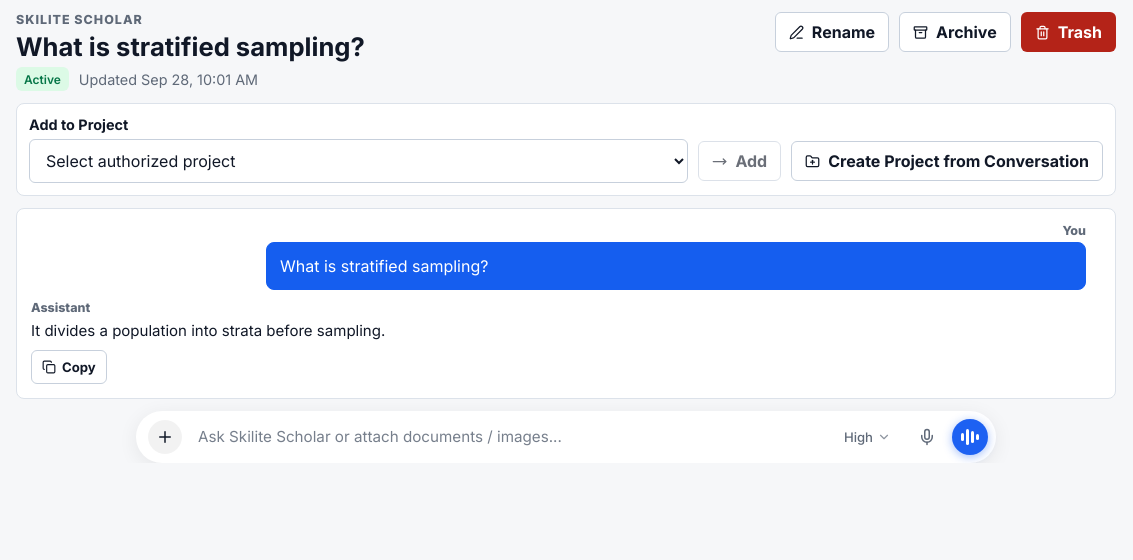
ConversationWorkspacePage › renames, archives, restores, and trashes a conversation
Check: the heading "What is stratified sampling?" is shown, box [16,33,365,61]
Click the button "Rename". click: (832, 32)
box: [775,12,889,52]
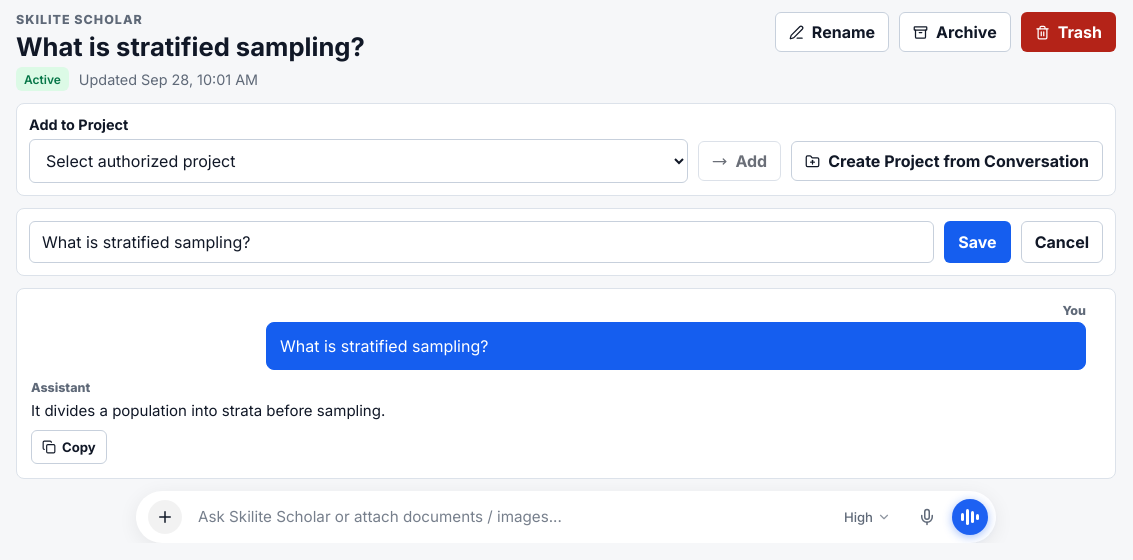
Replace the text in the field named "conversation title" with "Sampling Basics". click: (482, 242)
box: [29,221,934,263]
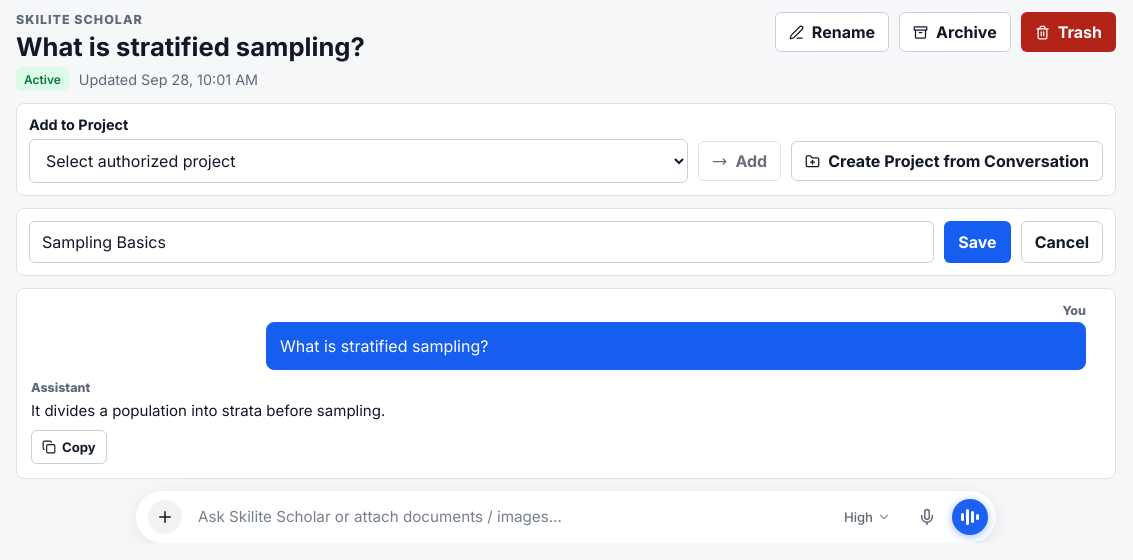
Click the button "Save". click: (977, 242)
box: [944,221,1011,263]
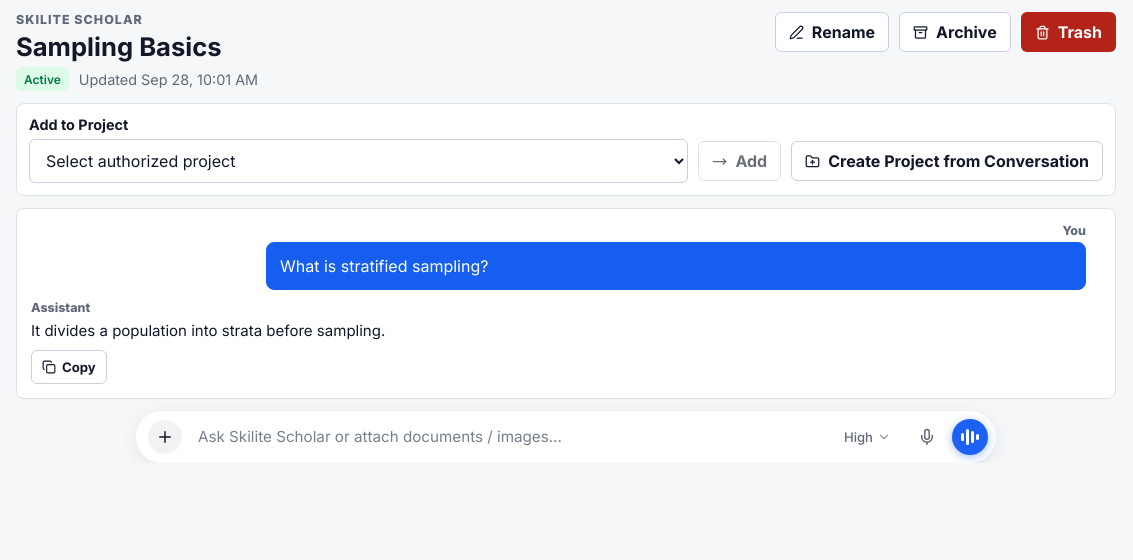
Check: the heading "Sampling Basics" is shown, box [16,31,222,62]
Click the button "Archive". click: (955, 32)
box: [899,12,1011,52]
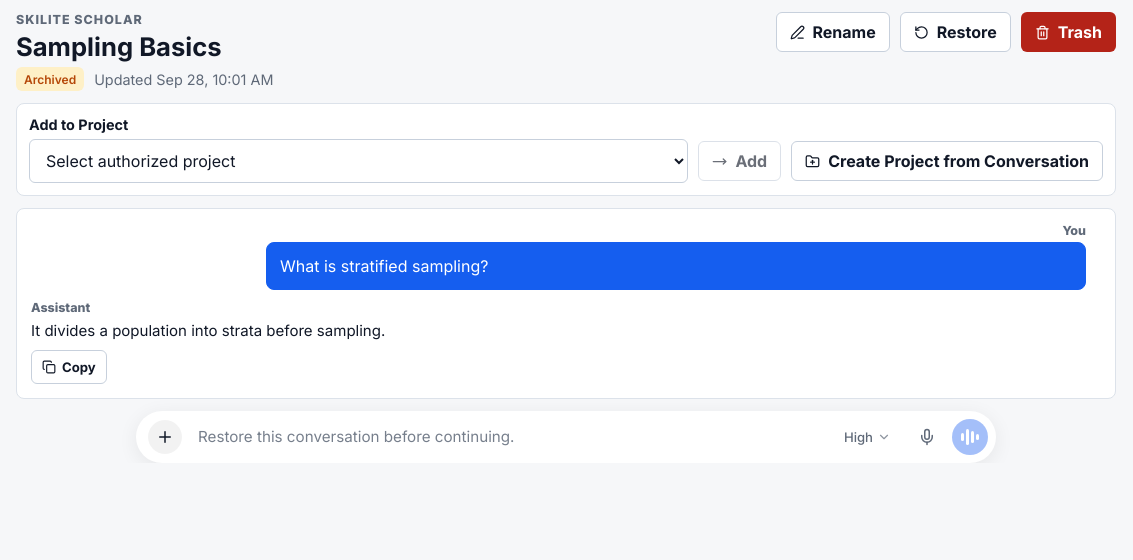
Check: the text "Archived" is shown, box [16,67,84,91]
Click the button "Restore". click: (955, 32)
box: [900,12,1011,52]
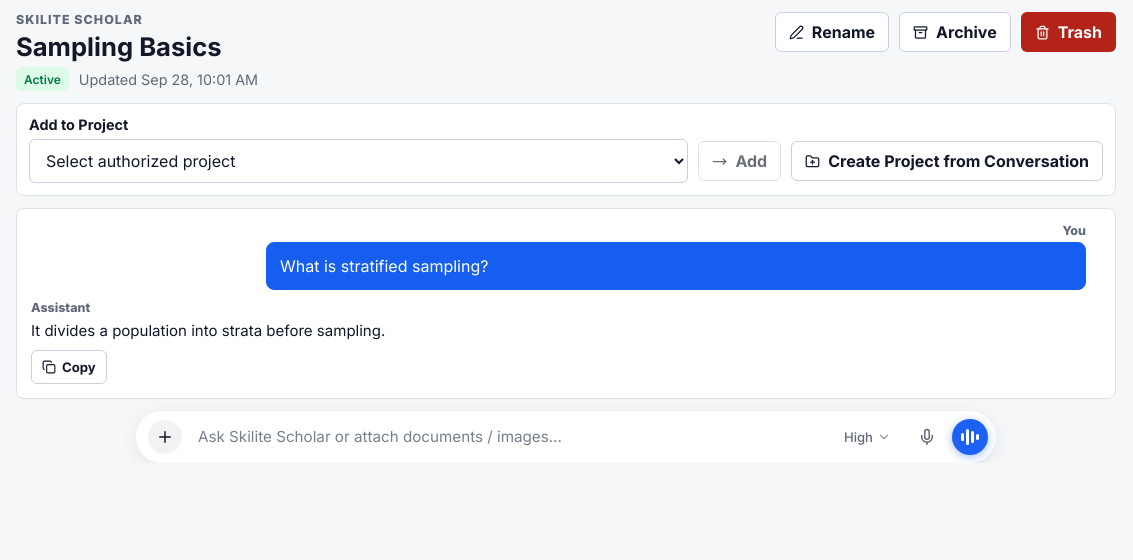
Check: the text "Active" is shown, box [16,67,69,91]
Click the button "Trash". click: (1068, 32)
box: [1021,12,1116,52]
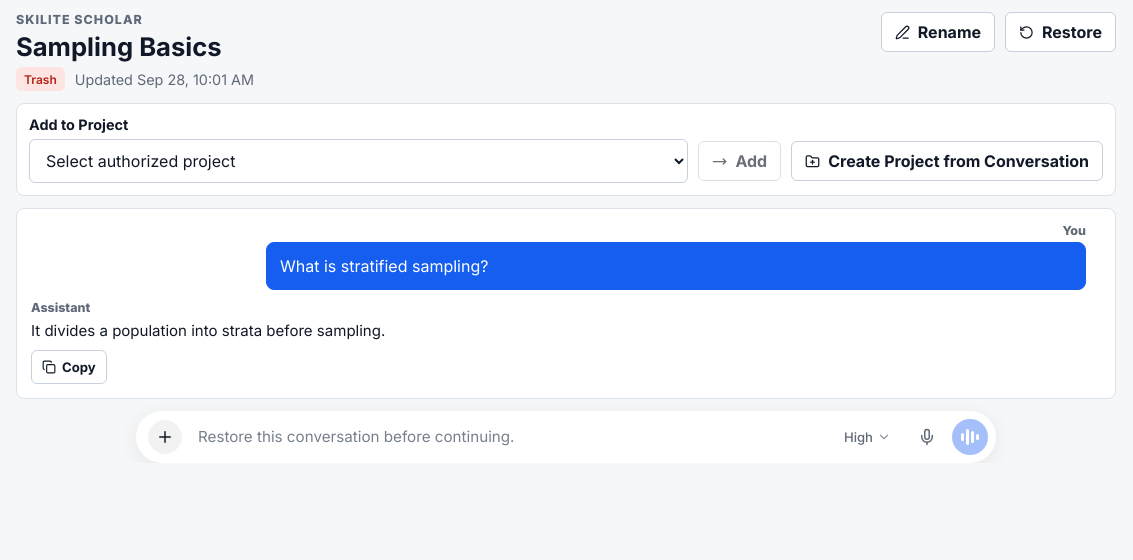
Check: the text "Trash" is shown, box [16,67,65,91]
